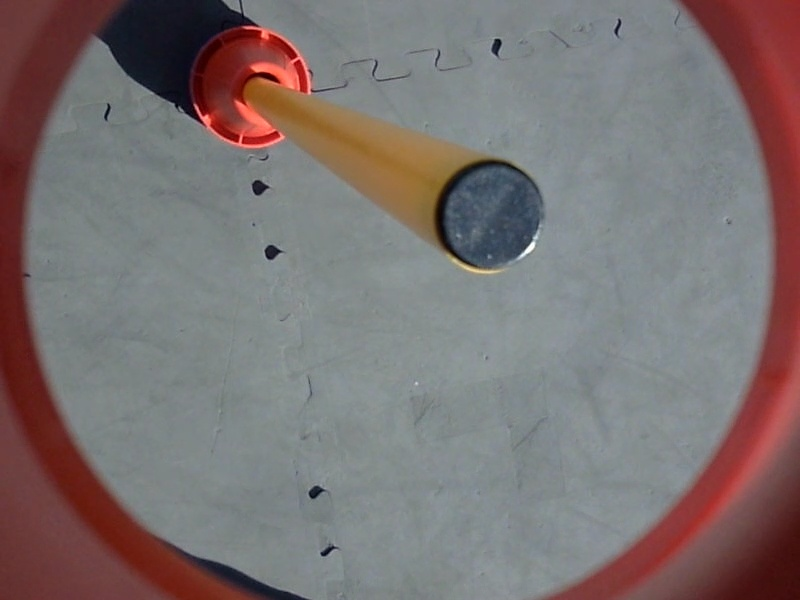tip: (431, 152, 553, 272)
